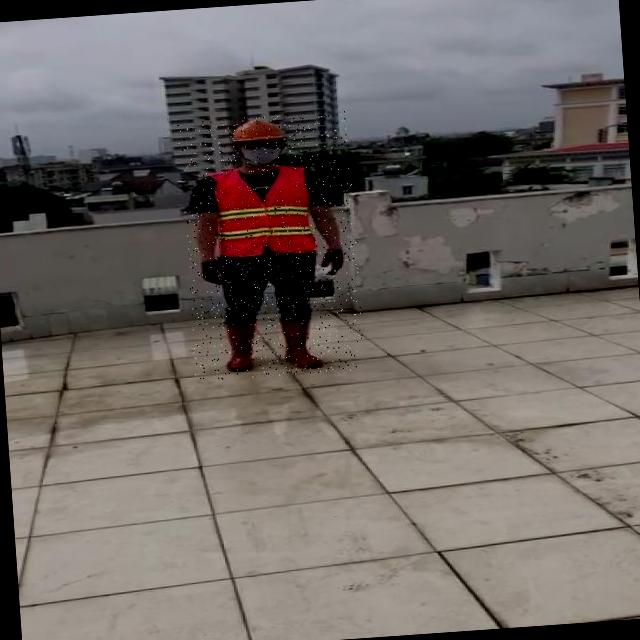boots: (280, 318, 329, 368), (224, 318, 259, 371)
gloves: (198, 256, 228, 285), (319, 245, 346, 272)
helmet: (224, 114, 288, 144)
vest: (212, 165, 316, 257)
